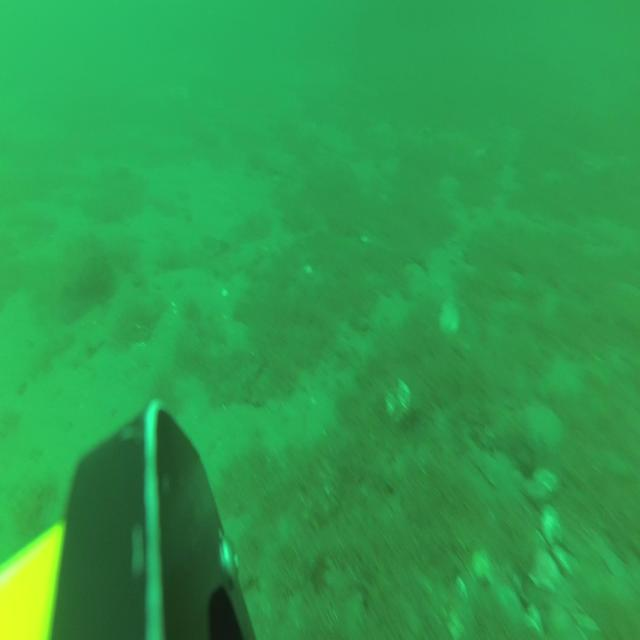scallop: (528, 548, 558, 591), (386, 378, 412, 421), (542, 506, 564, 553), (438, 302, 460, 337)
